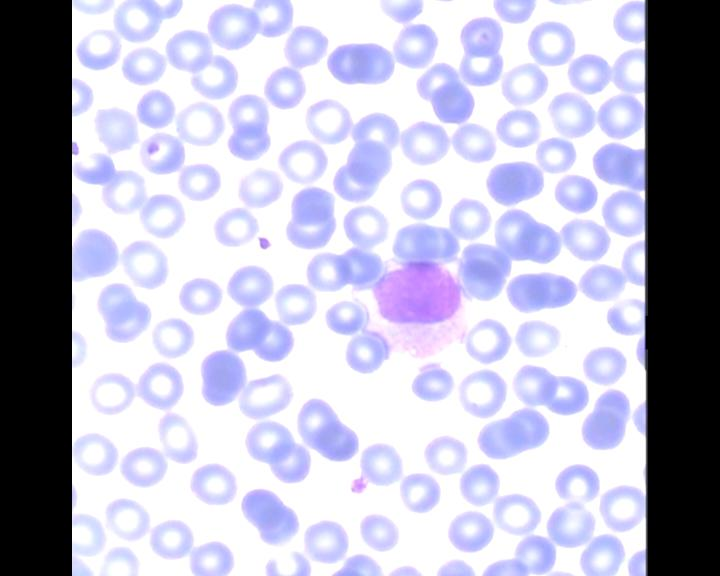mono: (354, 254, 475, 361)
